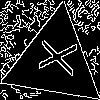X: (29, 36, 77, 77)
